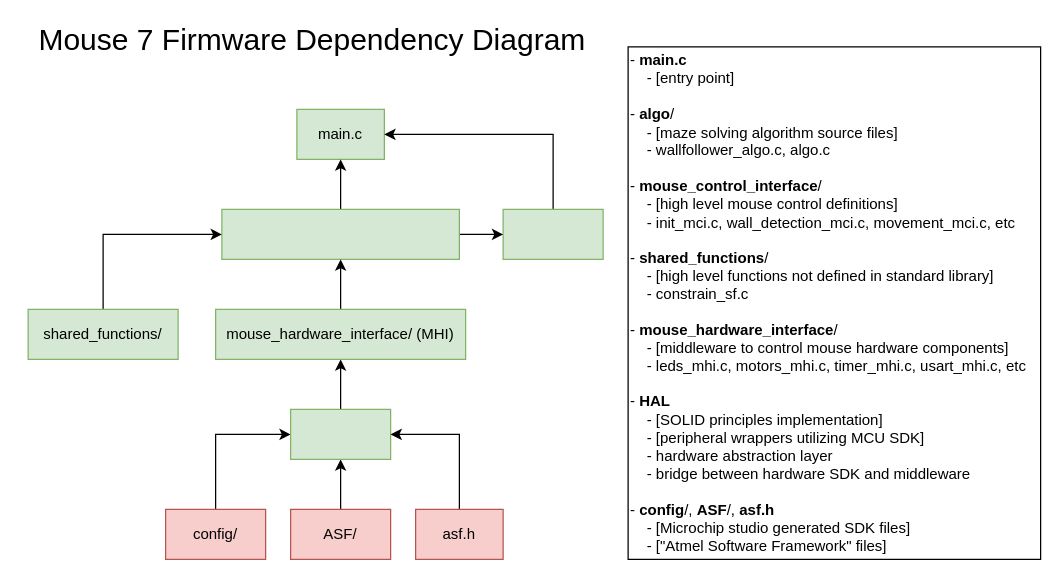
This 1063x581 diagram has some shape labels left out. The shapes that lost their labels are listed below. From the top down, each one's box as (x1, y1, x2, y2) in pixels, then its label:
(221, 208, 459, 259): mouse_control_interface/ (MCI)
(502, 208, 603, 259): algo/
(289, 408, 391, 459): HAL/
